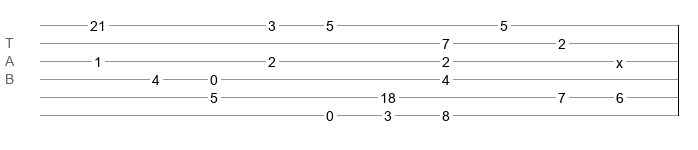0: (210, 72, 218, 82), (326, 108, 334, 118)
1: (94, 54, 102, 64)
18: (380, 90, 396, 100)
2: (268, 54, 276, 64), (442, 54, 450, 64), (558, 36, 566, 46)
21: (90, 18, 106, 28)
3: (268, 18, 276, 28), (384, 108, 392, 118)
4: (152, 72, 160, 82), (442, 72, 450, 82)
5: (210, 90, 218, 100), (326, 18, 334, 28), (500, 18, 508, 28)
6: (616, 90, 624, 100)
7: (442, 36, 450, 46), (558, 90, 566, 100)
8: (442, 108, 450, 118)
x: (616, 55, 623, 63)
